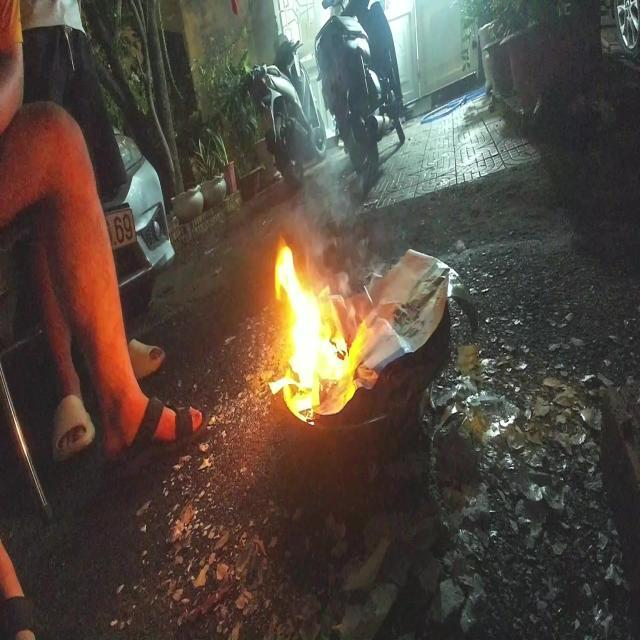Fire: (274, 241, 368, 421)
Smoke: (299, 177, 376, 288)
